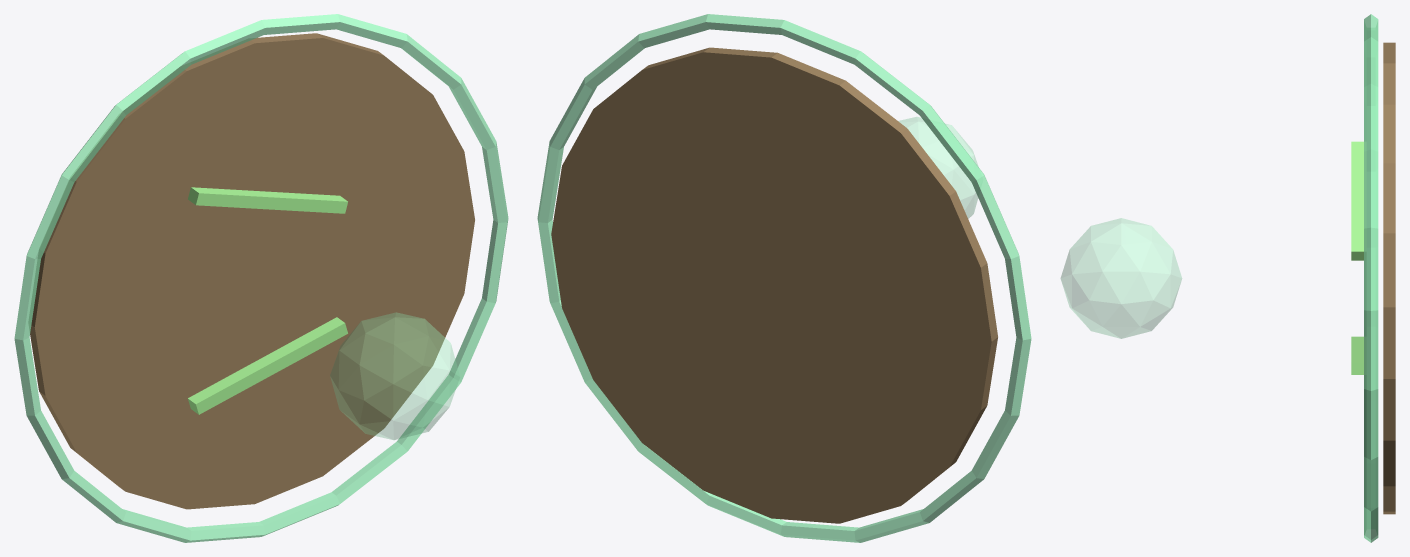
Rendered from 07_weather_terrain_nature_effect.glb.
The picture shows the model from 3 angles, left to right: view 1: azimuth 30°, elevation 25°; view 2: azimuth 150°, elevation 25°; view 3: azimuth 270°, elevation 25°; orthographic projection. The views are drawn at different scales.
Visible parts, largest first — view 1: terrain_patch, weather_boundary, weather_orb, terrain_marker_a, terrain_marker_b; view 2: terrain_patch, weather_boundary, weather_orb; view 3: weather_orb, weather_boundary, terrain_patch, terrain_marker_b, terrain_marker_a.
Part boxes in pixels (x1=…): terrain_patch: x1=29, y1=33, x2=474, y2=509; weather_boundary: x1=14, y1=14, x2=508, y2=542; weather_orb: x1=330, y1=312, x2=459, y2=439; terrain_marker_a: x1=188, y1=317, x2=347, y2=414; terrain_marker_b: x1=188, y1=187, x2=347, y2=213; terrain_patch: x1=551, y1=47, x2=997, y2=523; weather_boundary: x1=537, y1=14, x2=1031, y2=542; weather_orb: x1=898, y1=117, x2=978, y2=218; weather_orb: x1=1060, y1=218, x2=1181, y2=338; weather_boundary: x1=1364, y1=14, x2=1378, y2=542; terrain_patch: x1=1383, y1=42, x2=1395, y2=514; terrain_marker_b: x1=1351, y1=141, x2=1365, y2=260; terrain_marker_a: x1=1351, y1=336, x2=1365, y2=374.
Size of the model in its own units: 1.75 by 1.75 by 1.1.
